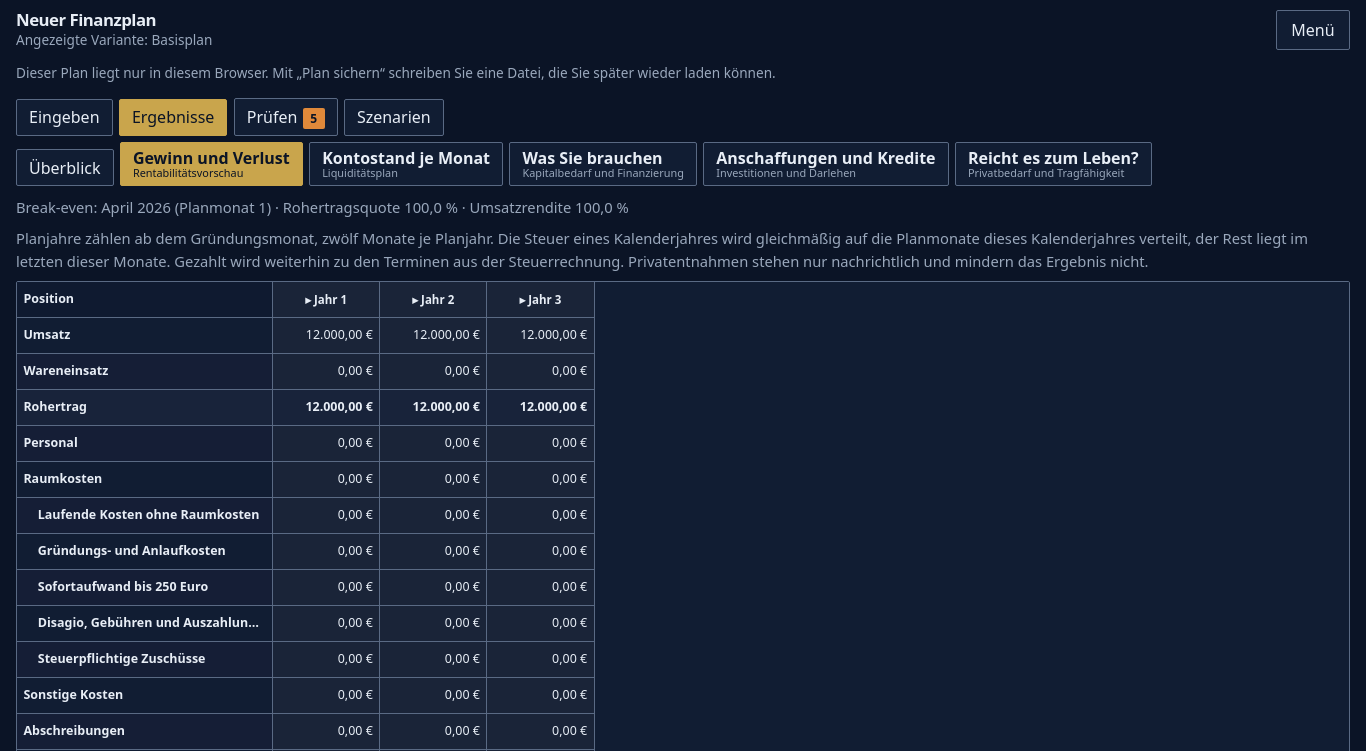
Test: Zweistufige Navigation › bündelt Eingaben und Berichte und behält die Fachbegriffe
Expected: the tab "Ergebnisse" is shown, [119,98,227,136]
Expected: the tab "Gewinn und Verlust Rentabilitätsvorschau" is shown, [120,142,303,186]
Click the tab "Eingeben" at (64,117), box [16,98,112,136]
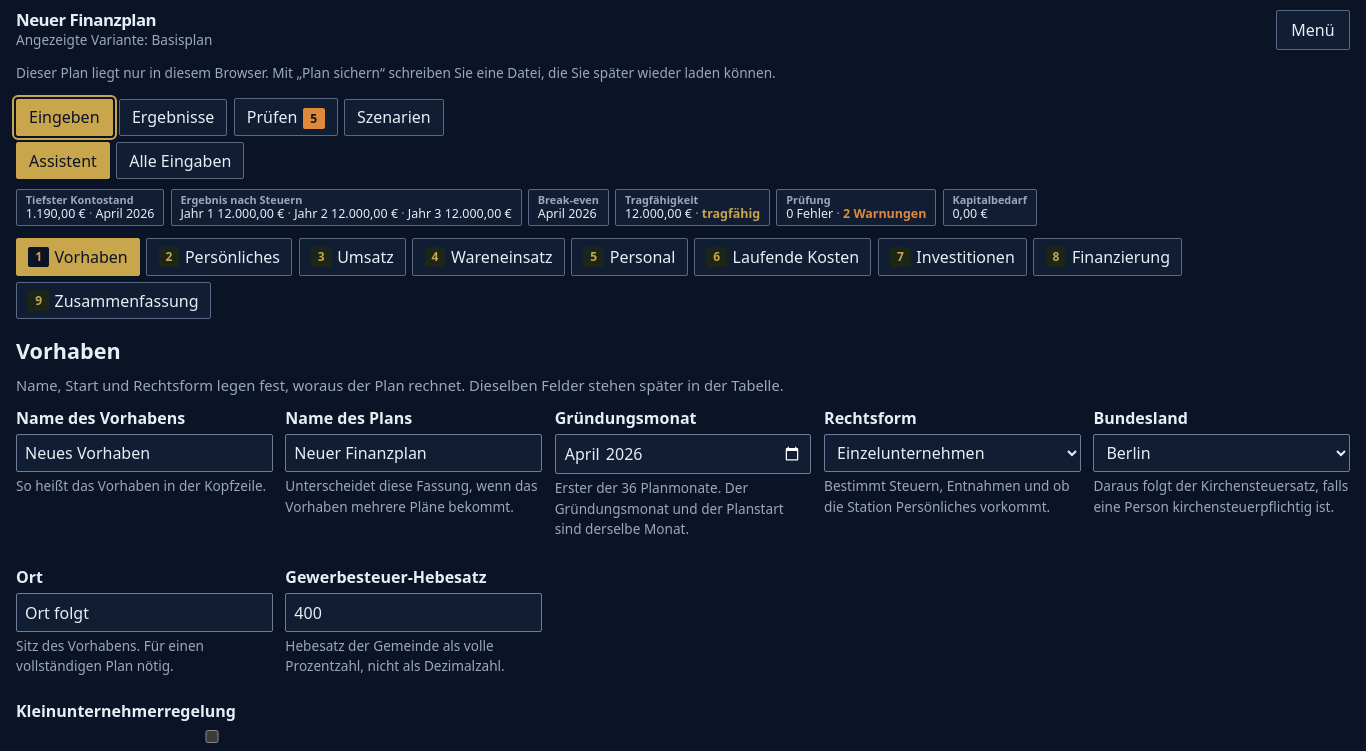
Expected: the tab "Assistent" is shown, [16,142,110,179]
Click the tab "Alle Eingaben" at (180,161), box [116,142,244,179]
(page scrolled)
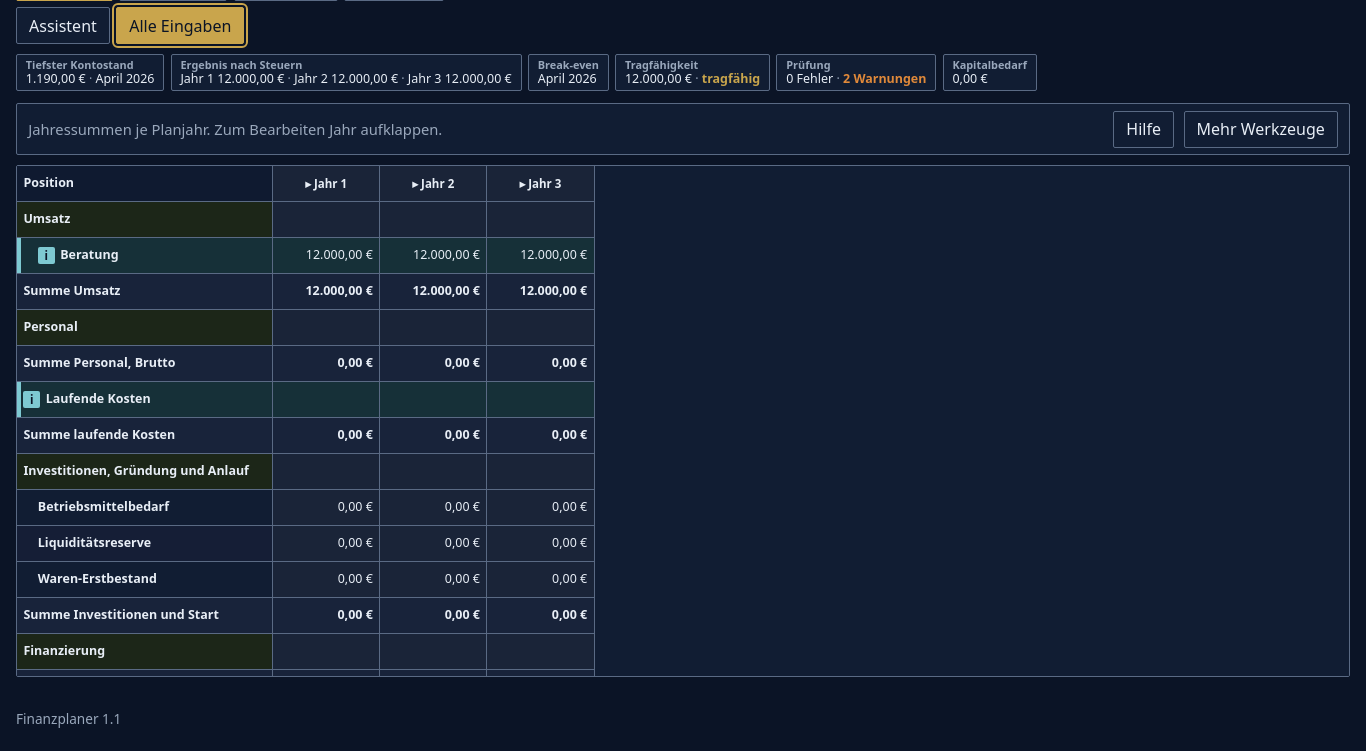
Expected: the tab "Alle Eingaben" is shown, [116,7,244,44]
Expected: the table named "Finanzplan" is shown
